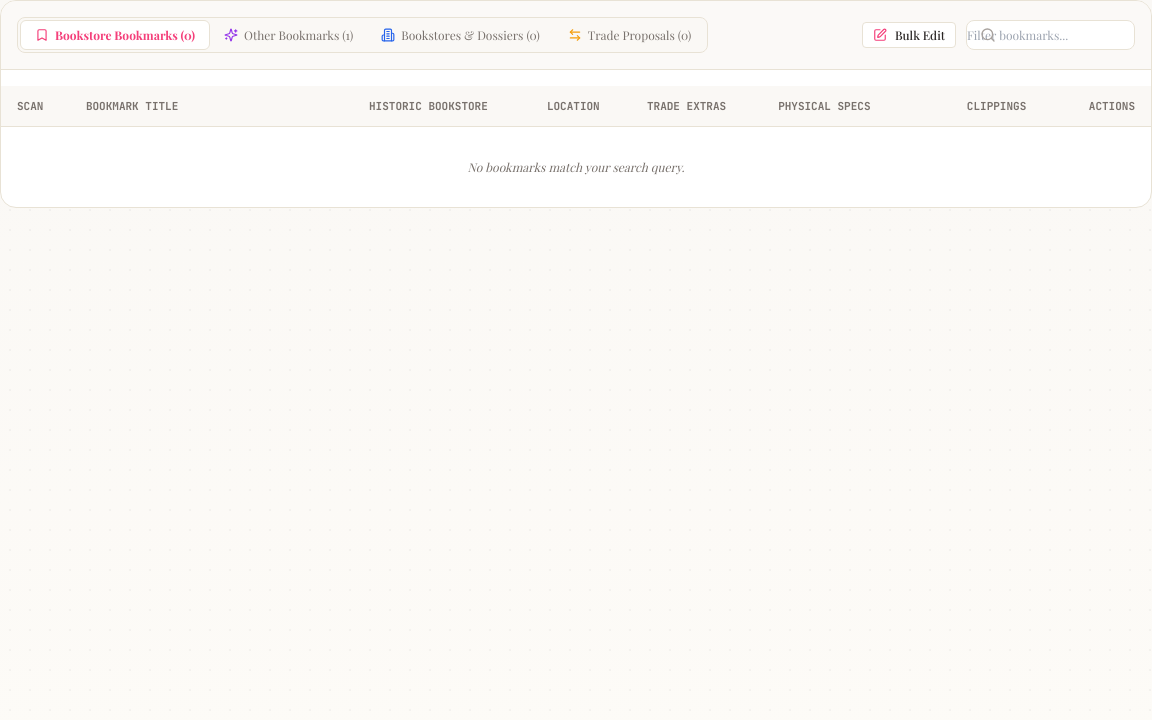
Test: AdminTableClient - Other Bookmarks Bulk Edit & ImageDropzone › toggles bulk edit mode and displays editable input for other bookmarks
The width and height of the screenshot is (1152, 720).
// Switch to Other Bookmarks tab
Click the button "Other Bookmarks (1)". click: (289, 35)
box: [210, 20, 367, 50]
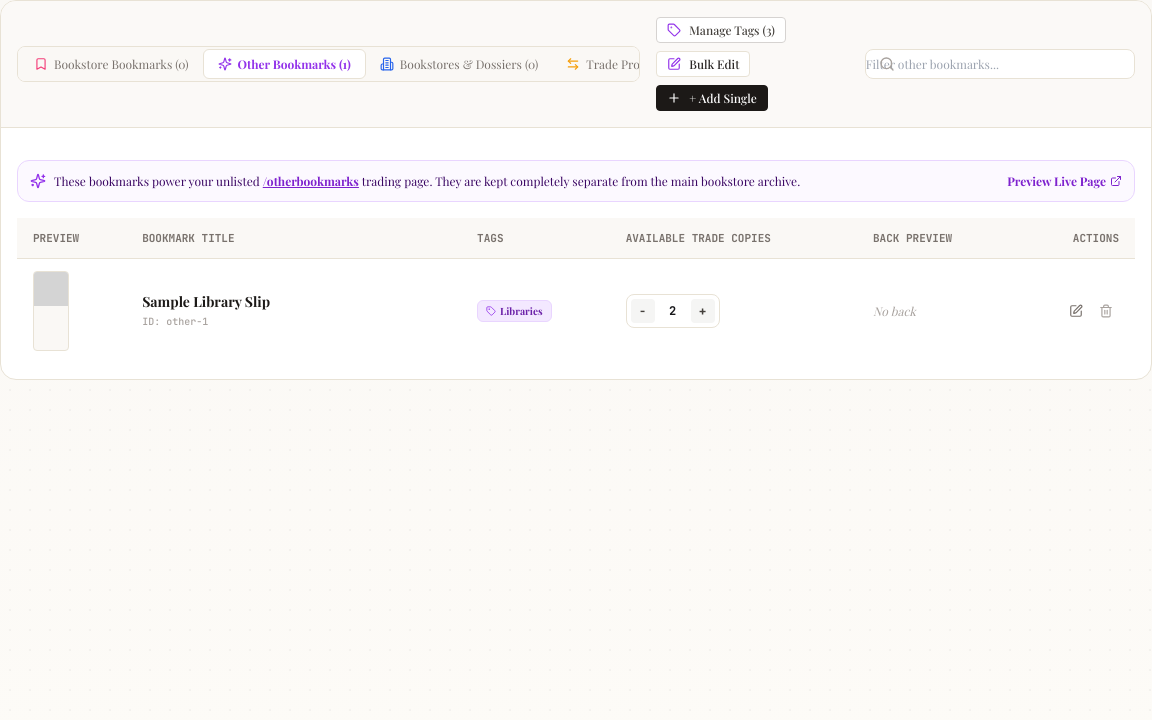
expect the text "Sample Library Slip" is shown: met, box [142, 292, 270, 311]
// Click Bulk Edit
Click the button "Bulk Edit". click: (703, 64)
box: [656, 51, 750, 77]
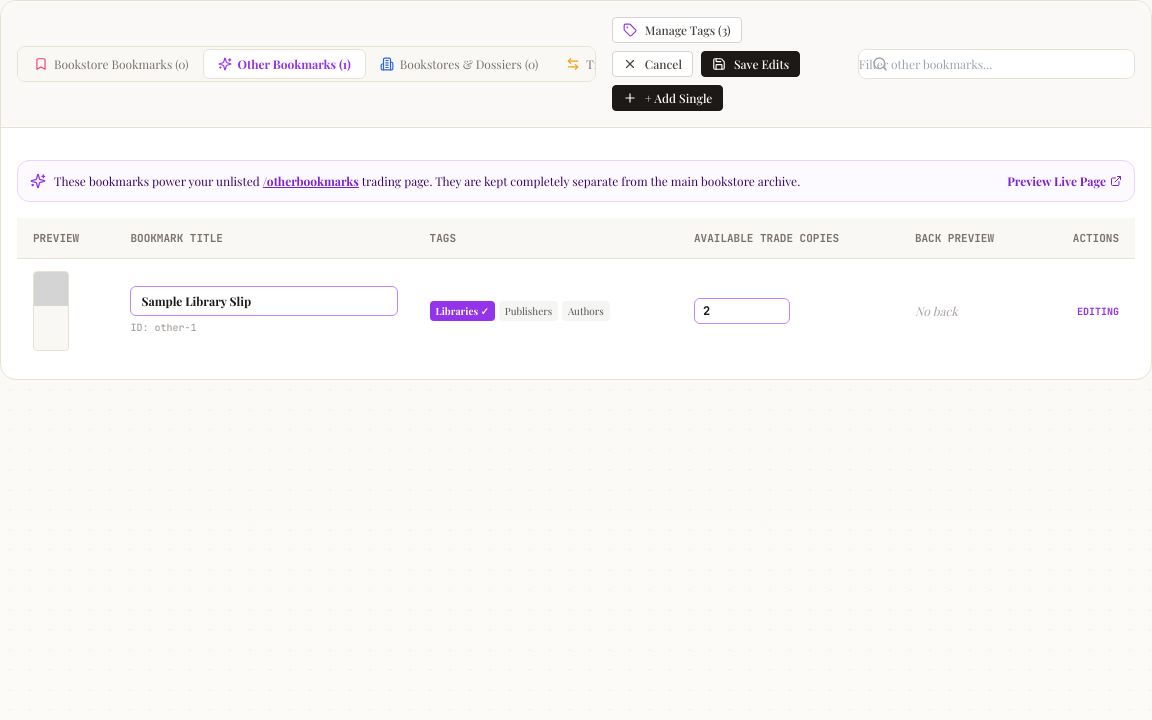
expect the field showing "Sample Library Slip" is shown: met, box [130, 286, 398, 316]
// Cancel Bulk Edit
Click the button "Cancel". click: (652, 64)
box: [612, 51, 693, 77]
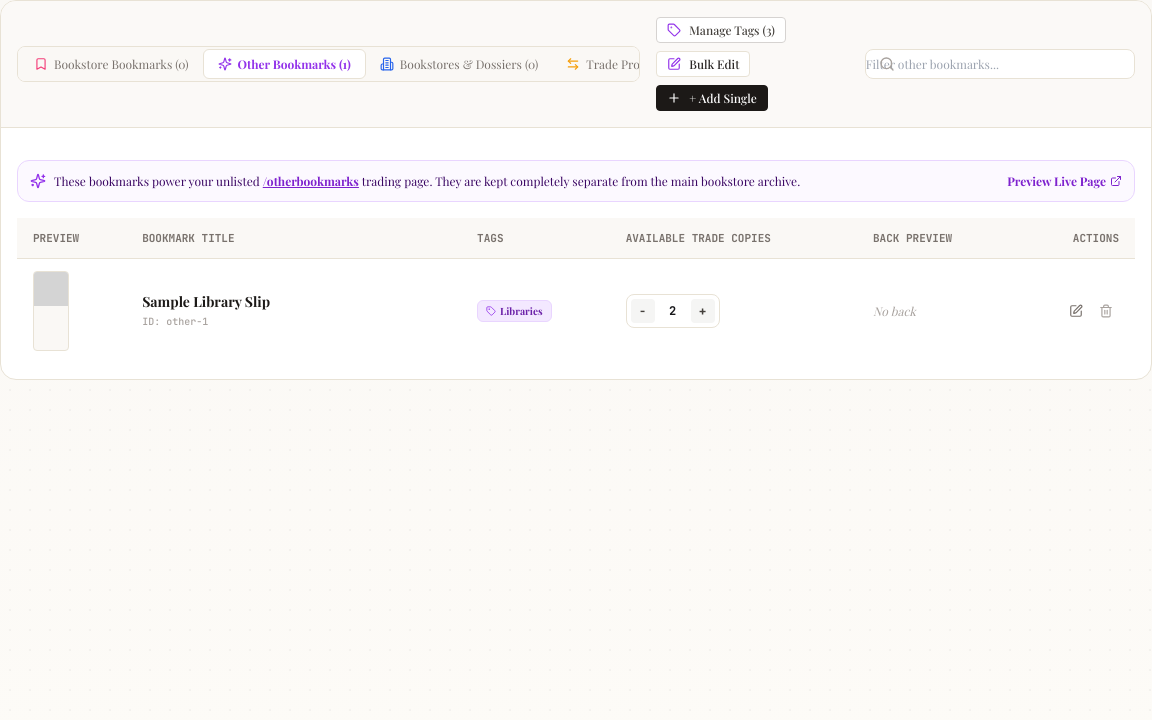
expect the button "Bulk Edit" is shown: met, box [656, 51, 750, 77]
